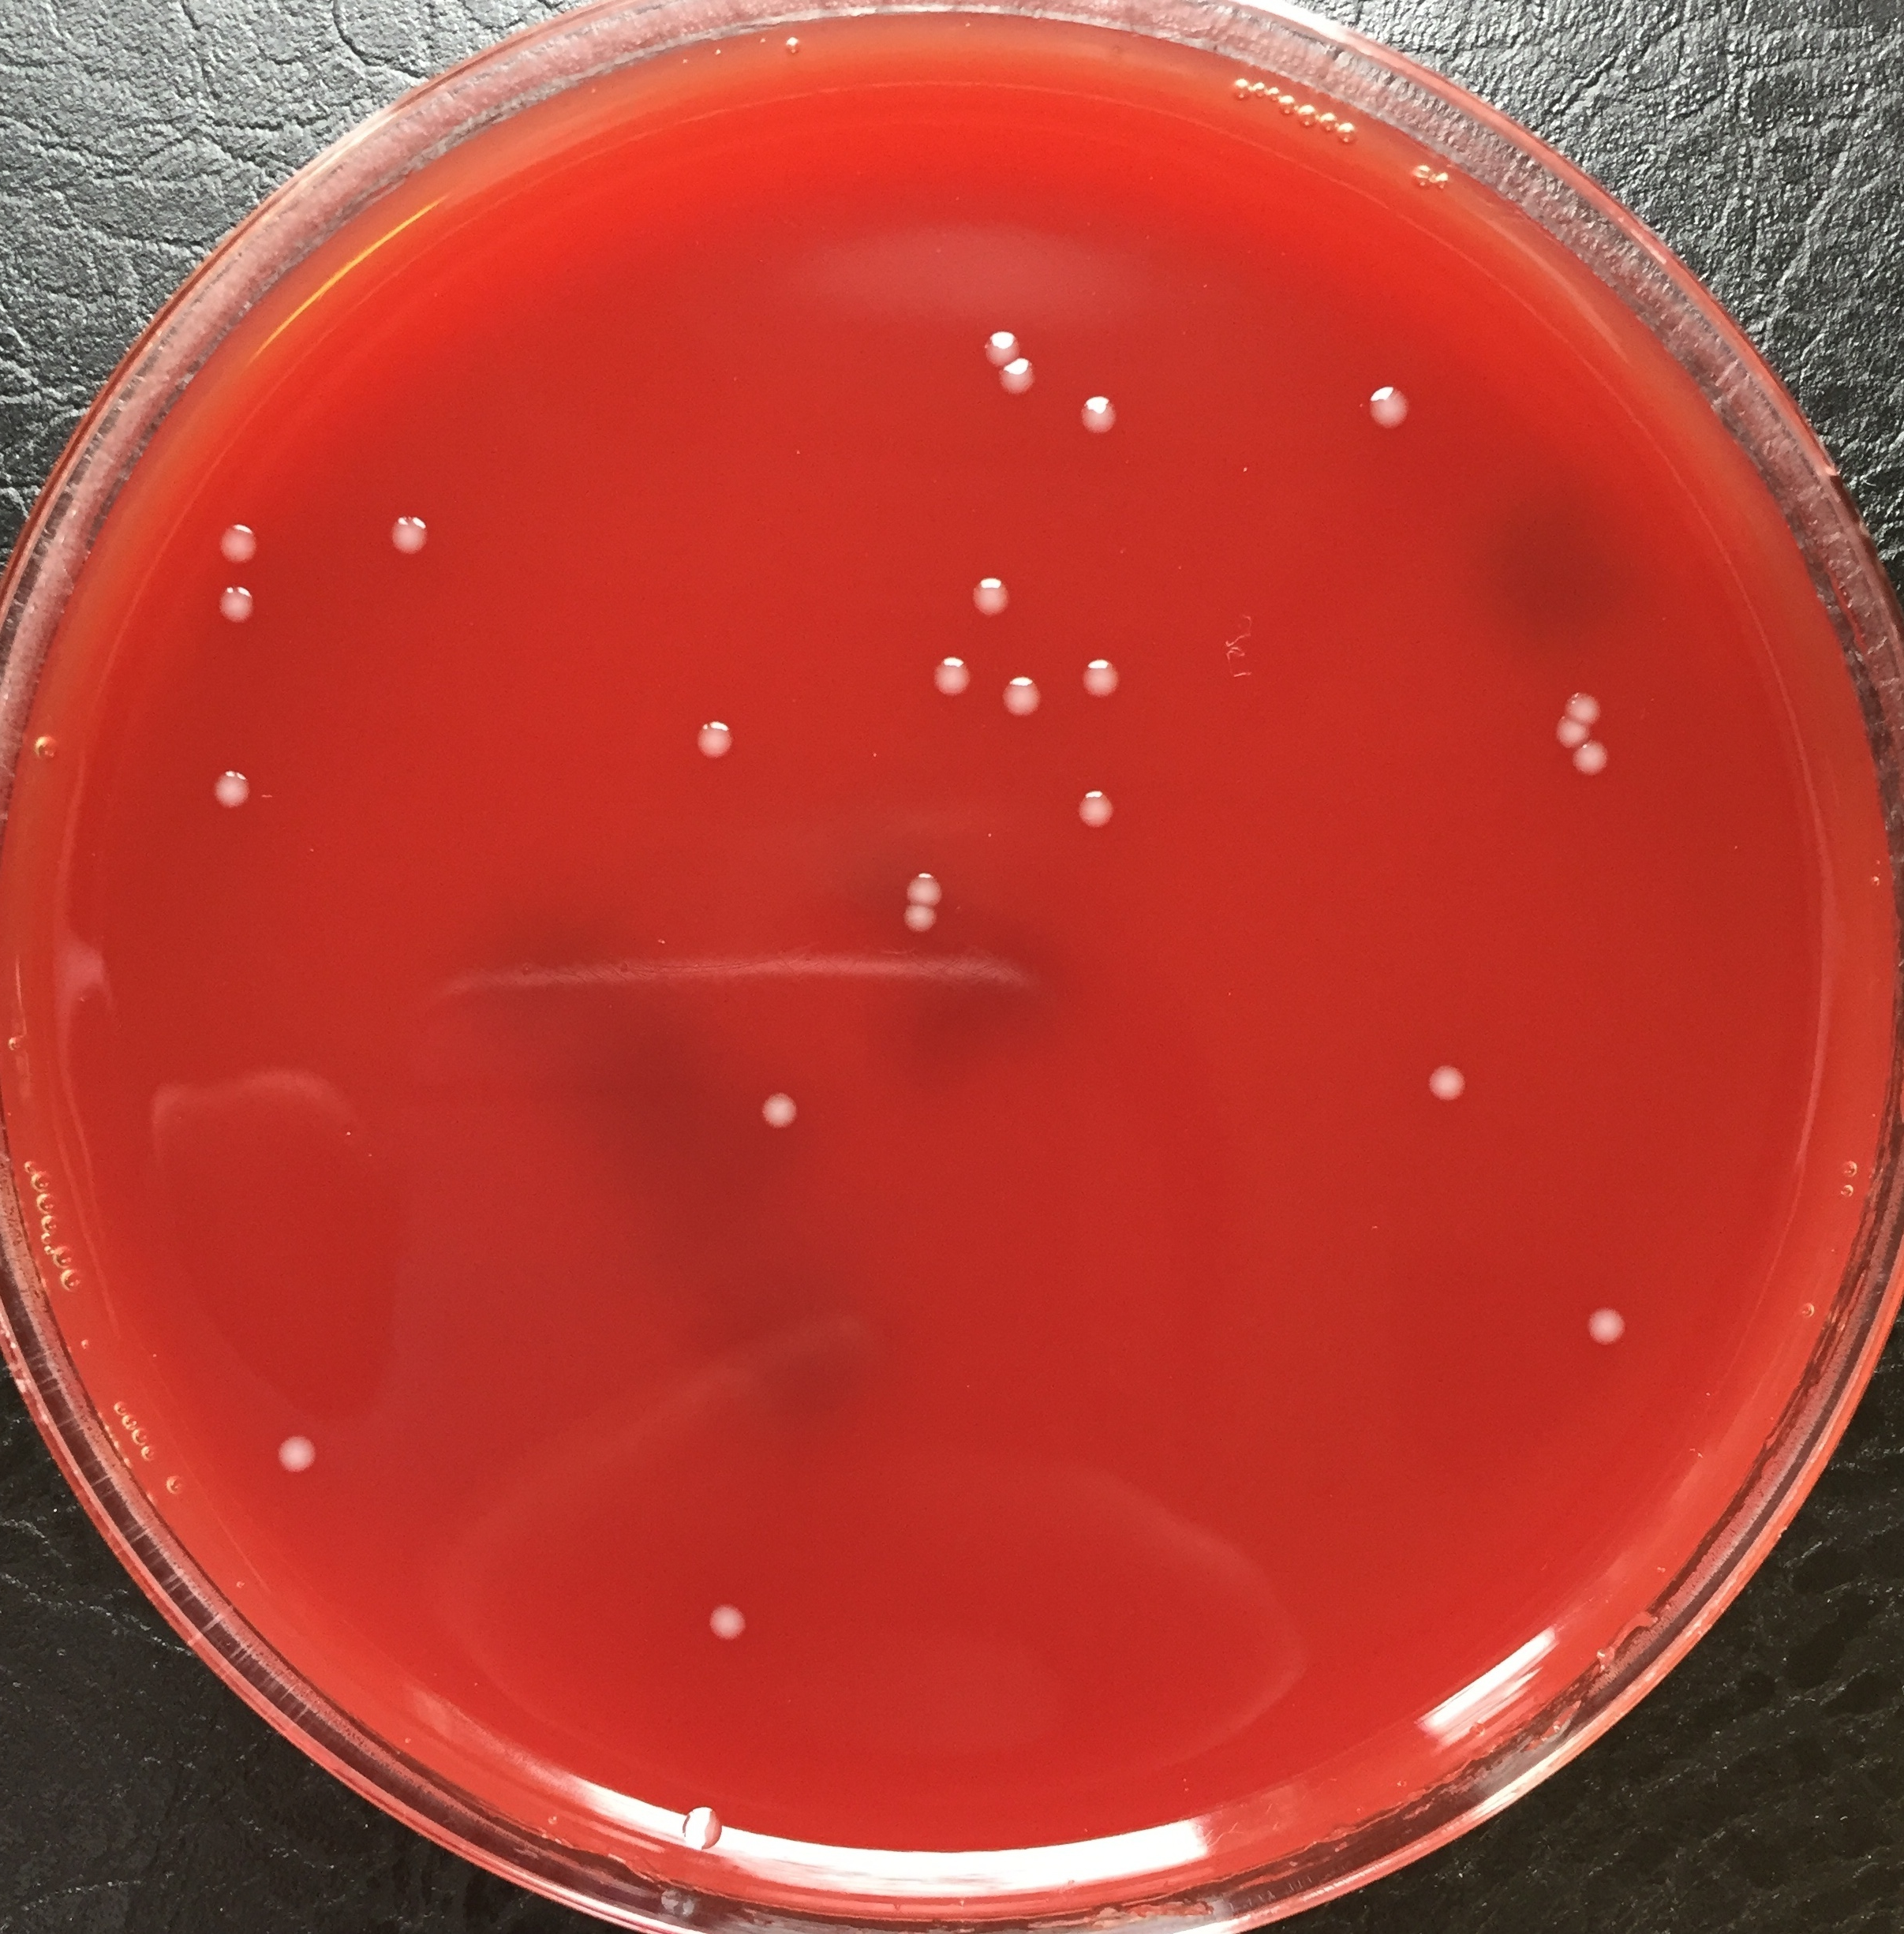sp14: (206, 752, 270, 842), (751, 1073, 814, 1154), (202, 569, 277, 635), (961, 563, 1029, 630), (202, 509, 267, 572), (1064, 781, 1133, 837), (1067, 385, 1139, 439), (270, 1420, 328, 1486), (683, 706, 739, 774), (382, 504, 438, 567), (1072, 645, 1130, 703), (1360, 382, 1423, 434), (996, 670, 1053, 724), (1583, 1299, 1632, 1357), (924, 644, 971, 703), (1423, 1059, 1475, 1111), (675, 1800, 724, 1852), (706, 1589, 746, 1650), (997, 352, 1041, 405), (898, 905, 952, 947), (900, 860, 949, 905), (973, 323, 1020, 366), (1559, 678, 1606, 722), (1573, 739, 1616, 780), (1547, 715, 1588, 752)
